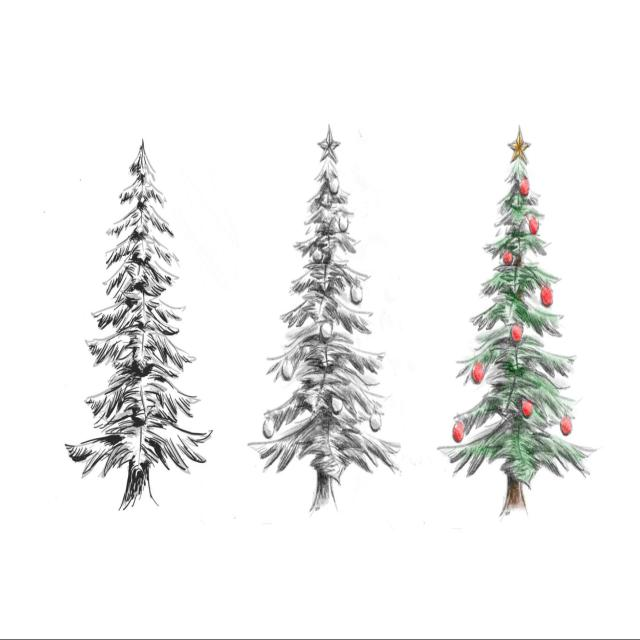Christmas-tree: (250, 93, 396, 525)
